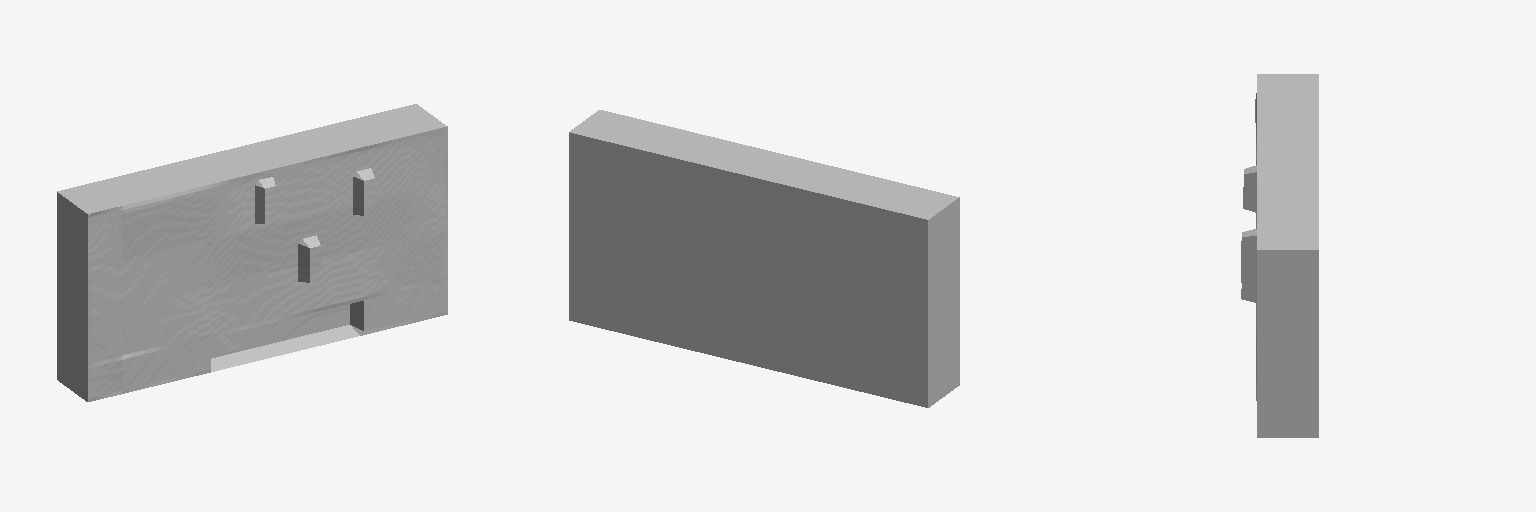
Rendered from rectangular_prism_bumps_9_2.obj.
3 renders of one model, left to right at view 1: azimuth 30°, elevation 25°; view 2: azimuth 150°, elevation 25°; view 3: azimuth 270°, elevation 25°, orthographic.
Bounding box in the file's own units: 10 × 5 × 1.88.